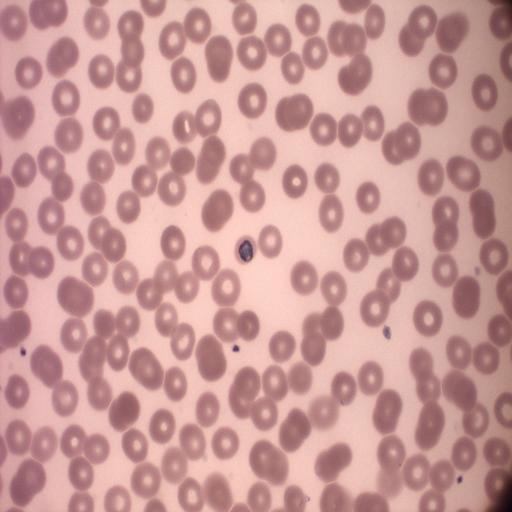Infected: (232, 234, 257, 265)
Uninfected: (398, 7, 437, 54), (248, 440, 289, 483), (10, 458, 48, 503), (431, 197, 462, 252), (313, 441, 354, 482), (381, 123, 421, 164), (57, 275, 96, 317), (407, 87, 448, 126), (228, 368, 262, 415), (30, 344, 66, 388), (326, 20, 368, 57), (2, 95, 37, 139), (274, 93, 314, 131), (195, 335, 228, 380), (337, 54, 374, 94), (45, 37, 81, 78), (196, 136, 228, 182), (468, 188, 498, 237), (204, 34, 235, 81), (372, 389, 405, 433), (128, 347, 163, 388), (108, 390, 143, 431), (201, 189, 235, 231), (441, 372, 477, 411), (451, 274, 482, 319), (434, 12, 468, 53), (278, 409, 311, 450), (414, 402, 445, 445), (1, 309, 32, 350), (446, 155, 480, 191), (360, 290, 393, 326), (29, 0, 68, 30), (237, 83, 270, 118), (236, 35, 268, 70), (375, 216, 407, 251), (53, 117, 84, 153), (471, 126, 503, 160), (412, 300, 443, 335), (51, 79, 82, 114), (401, 454, 431, 490), (308, 396, 340, 429), (131, 462, 162, 496), (98, 227, 128, 262), (300, 326, 328, 363), (428, 54, 459, 87), (204, 475, 234, 509), (479, 239, 508, 274), (92, 106, 122, 139), (157, 172, 187, 205), (418, 161, 447, 195), (121, 428, 150, 462), (51, 381, 80, 415), (0, 5, 29, 39), (461, 403, 490, 437), (290, 260, 318, 295), (471, 75, 499, 110), (211, 270, 241, 302), (309, 113, 338, 146), (194, 100, 223, 133), (38, 199, 67, 232), (56, 228, 85, 261), (213, 307, 242, 340), (60, 319, 89, 352), (428, 459, 457, 492), (88, 54, 116, 88), (159, 22, 187, 56), (179, 423, 207, 457), (31, 426, 59, 460), (318, 196, 345, 231), (4, 374, 31, 409), (5, 419, 32, 454), (376, 436, 406, 467), (81, 254, 110, 286), (391, 248, 420, 280), (14, 56, 43, 88), (183, 8, 212, 40), (169, 145, 198, 177), (407, 348, 436, 380), (451, 437, 479, 470), (68, 456, 96, 489), (317, 306, 345, 339), (160, 225, 187, 259), (149, 409, 176, 443), (11, 153, 38, 187), (211, 427, 240, 458), (27, 247, 56, 278), (249, 397, 278, 428), (319, 271, 347, 303), (113, 260, 141, 292), (87, 150, 115, 182), (38, 146, 66, 178), (161, 451, 189, 483), (82, 434, 110, 466), (257, 226, 284, 259), (282, 165, 309, 198), (170, 57, 197, 90), (80, 182, 107, 215), (288, 361, 315, 394), (170, 323, 196, 357), (192, 247, 220, 278), (301, 37, 329, 68), (84, 6, 112, 37), (116, 60, 144, 91), (248, 137, 276, 168), (358, 362, 385, 394), (261, 365, 288, 397), (338, 113, 364, 146), (446, 335, 472, 368), (195, 393, 221, 426), (4, 275, 30, 308), (487, 314, 512, 348), (268, 331, 296, 361), (239, 181, 267, 211), (231, 3, 259, 33), (472, 342, 500, 372), (432, 255, 459, 286), (118, 36, 144, 68), (154, 261, 180, 293), (138, 279, 163, 312), (264, 24, 292, 53), (314, 163, 341, 193), (295, 5, 322, 35), (356, 181, 382, 212), (280, 52, 306, 83), (145, 136, 171, 167), (331, 372, 357, 403), (484, 437, 510, 468), (112, 131, 137, 163), (5, 206, 29, 239), (109, 335, 131, 371), (116, 306, 140, 339), (117, 10, 144, 39), (116, 191, 142, 221), (343, 239, 369, 269), (131, 165, 157, 195), (177, 479, 203, 509), (87, 379, 113, 409), (164, 368, 188, 400), (361, 106, 385, 138), (489, 6, 512, 39), (236, 310, 261, 340), (10, 244, 35, 274), (155, 304, 179, 335), (131, 93, 155, 124), (176, 272, 201, 301), (172, 110, 196, 140), (364, 5, 386, 37), (104, 486, 131, 511), (416, 377, 441, 404), (231, 155, 253, 185), (494, 391, 512, 426), (93, 310, 116, 336)
